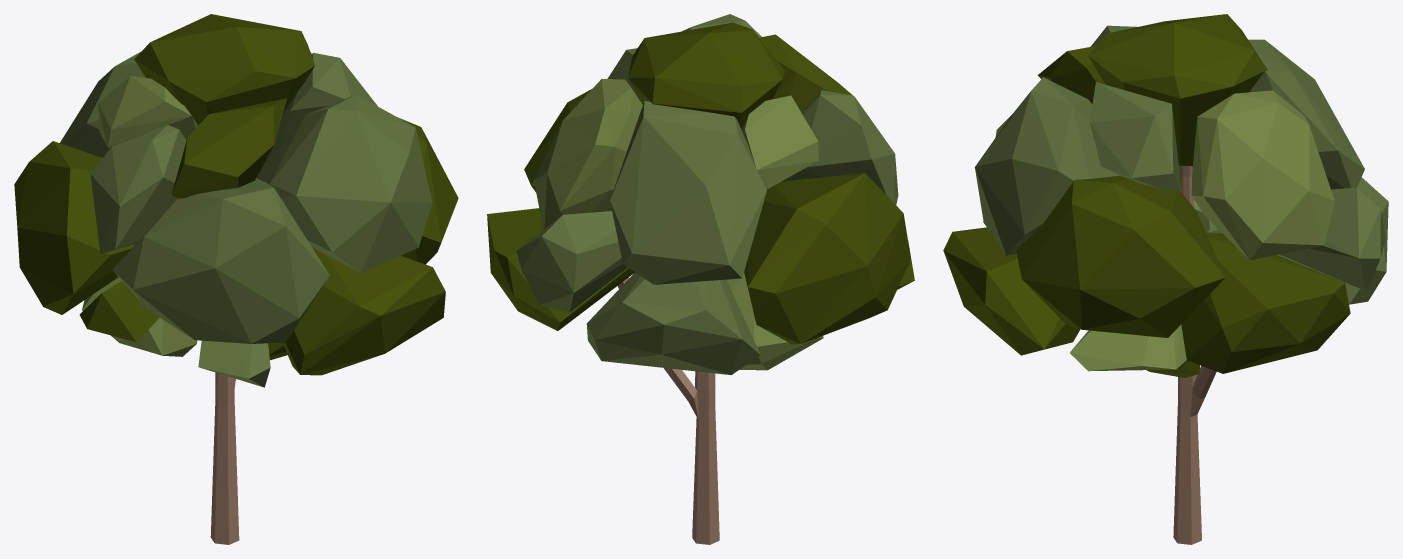
Rendered from tree_0006.dae.
The picture shows the model from 3 angles, left to right: view 1: azimuth 30°, elevation 25°; view 2: azimuth 150°, elevation 25°; view 3: azimuth 270°, elevation 25°; orthographic projection. The views are drawn at different scales.
Visible parts, largest first — view 1: tree_0006; view 2: tree_0006; view 3: tree_0006.
Part boxes in pixels (x1,y1,x2,y2): tree_0006: (14,14,458,544); tree_0006: (487,14,914,544); tree_0006: (943,14,1388,544).
Size of the model in its own units: 2.52 by 2.54 by 3.26.
